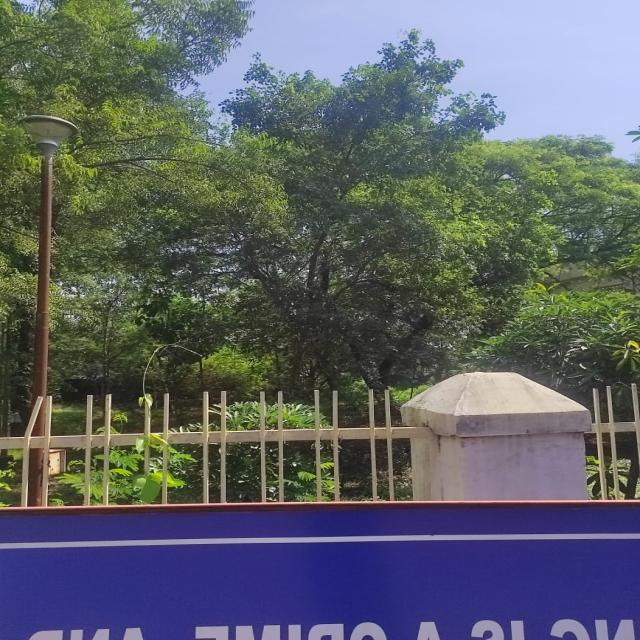Devakanchan tree: (259, 99, 490, 393)
Neem Tree: (1, 37, 179, 369)
